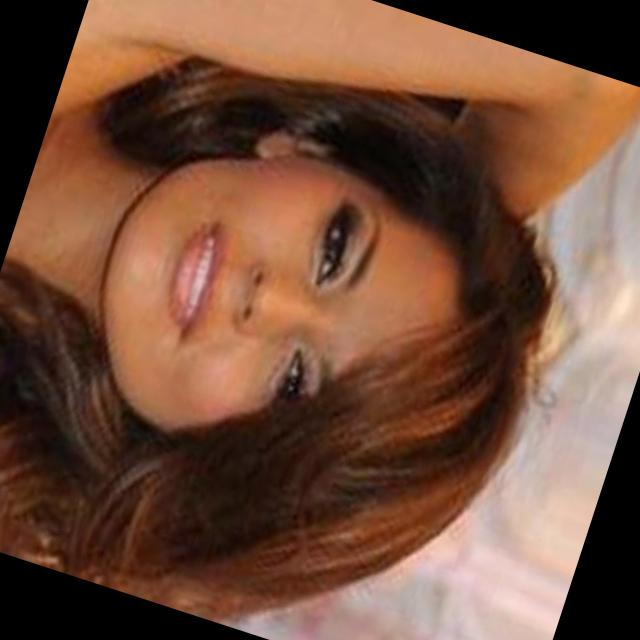bareface: (12, 100, 560, 613)
